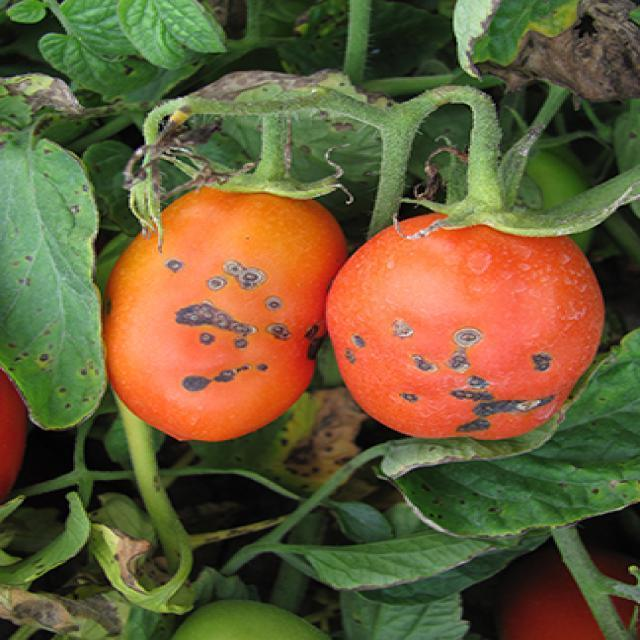Bacterial Spot: (0, 138, 102, 435), (345, 301, 556, 437), (154, 254, 302, 401), (416, 467, 640, 522)
